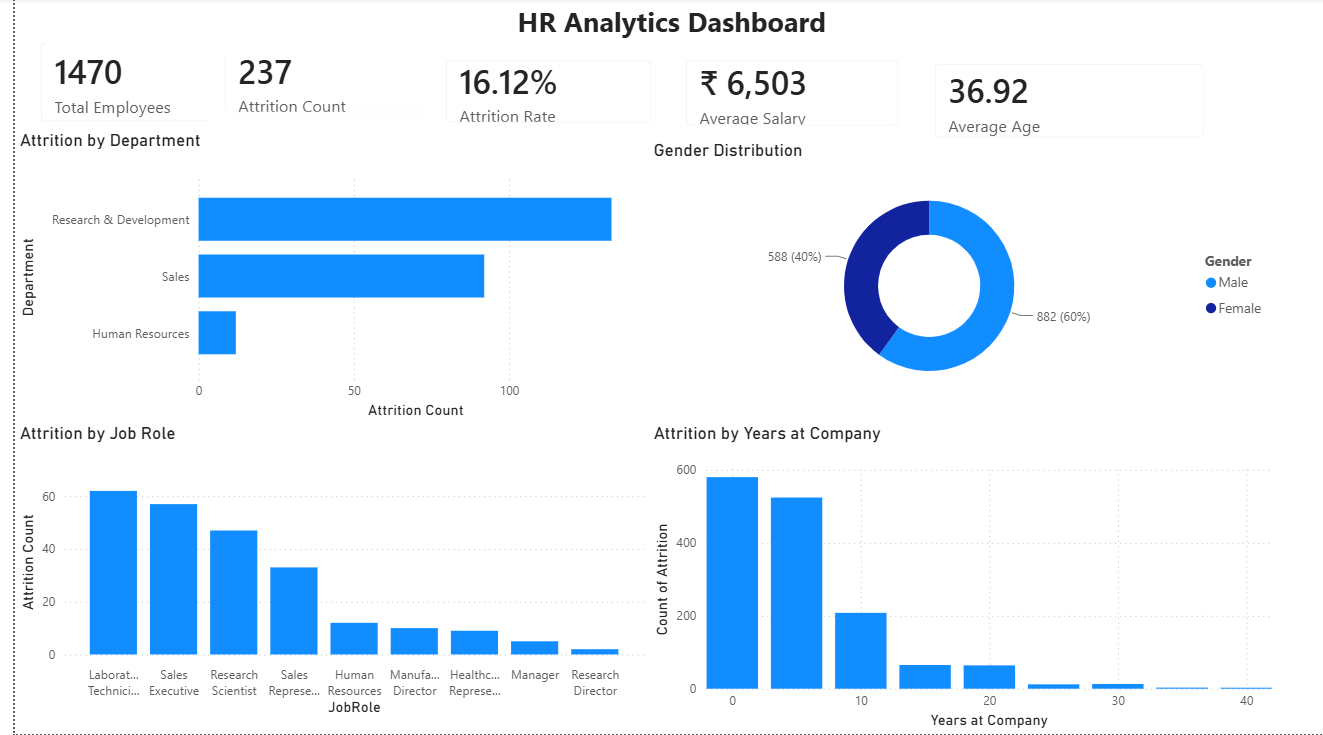

What the dashboard file says about the page in this screenshot:
{"tool":"powerbi","page":{"name":"Dashboard","canvas":[1280,720],"ordinal":0},"visuals":[{"type":"cardVisual","fields":{"Data":["WA_Fn-UseC_-HR-Employee-Attrition.Total Employees"]},"box":[8.8,27.5,204.4,111.1],"z":0},{"type":"cardVisual","fields":{"Data":["WA_Fn-UseC_-HR-Employee-Attrition.Attrition Count"]},"box":[188.8,33.8,242.2,95.6],"z":1000},{"type":"cardVisual","fields":{"Data":["WA_Fn-UseC_-HR-Employee-Attrition.Attrition Rate"]},"box":[405,43.8,235.6,95.6],"z":2000},{"type":"cardVisual","fields":{"Data":["WA_Fn-UseC_-HR-Employee-Attrition.Average Age"]},"box":[882.5,47.5,297.7,106.1],"z":3000},{"type":"cardVisual","fields":{"Data":["WA_Fn-UseC_-HR-Employee-Attrition.Average Salary"]},"box":[640,43.8,242.2,98.9],"z":4000},{"type":"textbox","box":[30,0,1250,55.6],"z":5000},{"type":"clusteredBarChart","title":"Attrition by Department","fields":{"Y":["WA_Fn-UseC_-HR-Employee-Attrition.Attrition Count"],"Category":["WA_Fn-UseC_-HR-Employee-Attrition.Department"]},"box":[0,128.8,620,287.5],"z":6000},{"type":"donutChart","title":"Gender Distribution","fields":{"Category":["WA_Fn-UseC_-HR-Employee-Attrition.Gender"],"Y":["CountNonNull(WA_Fn-UseC_-HR-Employee-Attrition.Department)"]},"box":[620,138.8,615,255],"z":7000},{"type":"clusteredColumnChart","title":"Attrition by Job Role","fields":{"Category":["WA_Fn-UseC_-HR-Employee-Attrition.JobRole"],"Y":["WA_Fn-UseC_-HR-Employee-Attrition.Attrition Count"]},"box":[0,416.2,620,291.2],"z":8000},{"type":"clusteredColumnChart","title":"Attrition by Years at Company","fields":{"Y":["CountNonNull(WA_Fn-UseC_-HR-Employee-Attrition.Attrition)"],"Category":["WA_Fn-UseC_-HR-Employee-Attrition.YearsAtCompany (bins)"]},"box":[620,416.2,615,303.8],"z":8001}]}

Visuals, with their boxes in screenshot pixels (x1, y1, x2, y2), scaled from the page's 1280x720 canvas onto the 1323x735 screenshot:
cardVisual - WA_Fn-UseC_-HR-Employee-Attrition.Total Employees: {"left": 9, "top": 28, "right": 220, "bottom": 141}
cardVisual - WA_Fn-UseC_-HR-Employee-Attrition.Attrition Count: {"left": 195, "top": 35, "right": 445, "bottom": 132}
cardVisual - WA_Fn-UseC_-HR-Employee-Attrition.Attrition Rate: {"left": 419, "top": 45, "right": 662, "bottom": 142}
cardVisual - WA_Fn-UseC_-HR-Employee-Attrition.Average Age: {"left": 912, "top": 48, "right": 1220, "bottom": 157}
cardVisual - WA_Fn-UseC_-HR-Employee-Attrition.Average Salary: {"left": 662, "top": 45, "right": 912, "bottom": 146}
textbox: {"left": 31, "top": 0, "right": 1322, "bottom": 57}
"Attrition by Department" clusteredBarChart: {"left": 0, "top": 131, "right": 641, "bottom": 425}
"Gender Distribution" donutChart: {"left": 641, "top": 142, "right": 1276, "bottom": 402}
"Attrition by Job Role" clusteredColumnChart: {"left": 0, "top": 425, "right": 641, "bottom": 722}
"Attrition by Years at Company" clusteredColumnChart: {"left": 641, "top": 425, "right": 1276, "bottom": 734}
